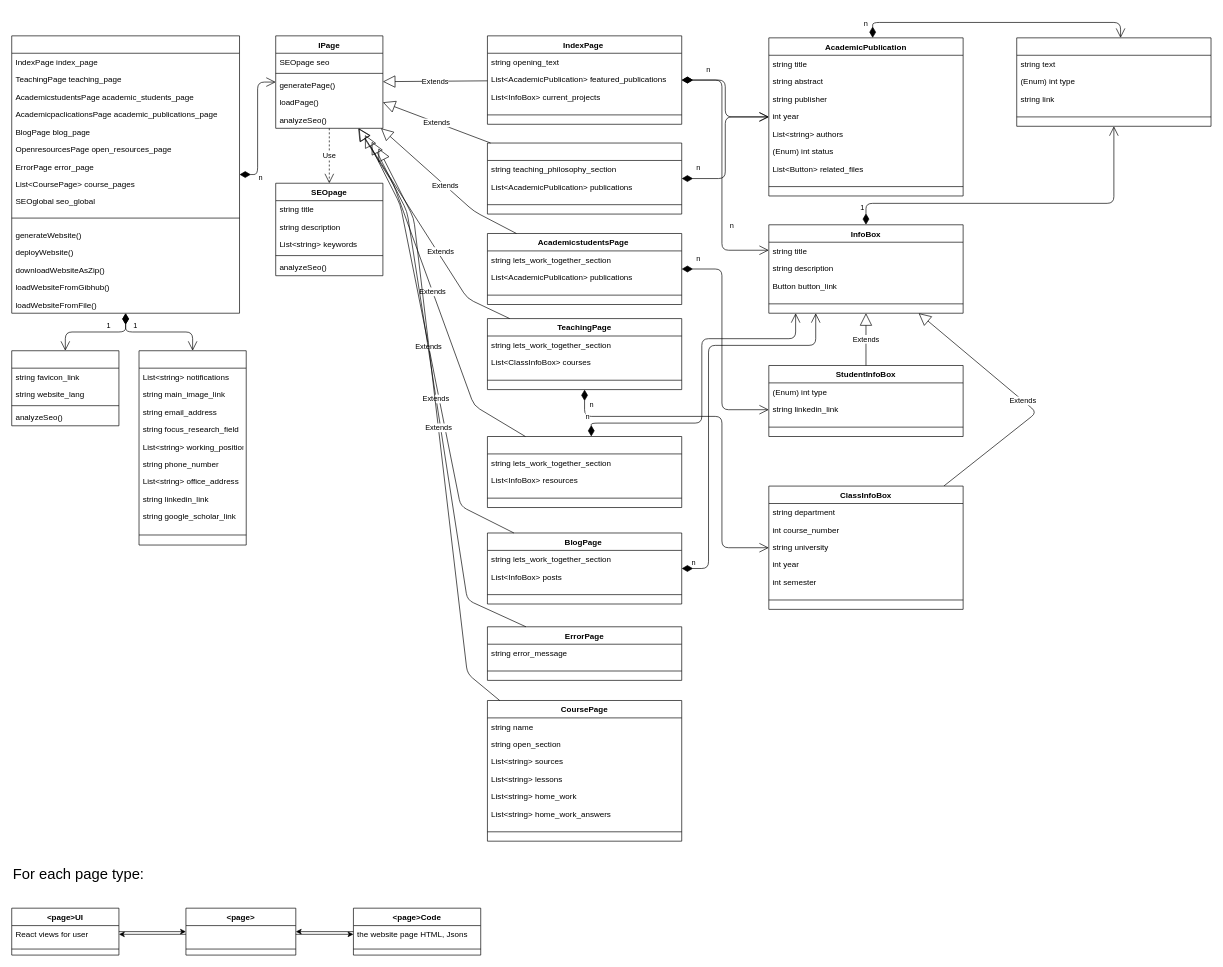
Some shapes in this 1223 by 967 pixel diagram are drawn without their labels. Each missing label, with the box of its shape:
AcademicpaclicationsPage: (487, 142, 682, 214)
Button: (1016, 37, 1211, 126)
GeneralContent: (138, 350, 246, 545)
OpenresourcesPage: (487, 436, 682, 508)
SEOglobal: (11, 350, 119, 426)
the relevant page data: (185, 908, 296, 955)
WebsiteGeneratorManager: (11, 35, 240, 313)
